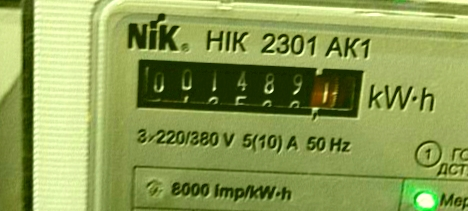0: (177, 66, 194, 92), (150, 69, 166, 95)
1: (206, 66, 221, 95), (318, 76, 331, 106)
4: (233, 68, 250, 94)
8: (259, 69, 277, 96)
9: (288, 72, 304, 97)
screen: (120, 48, 378, 132)
